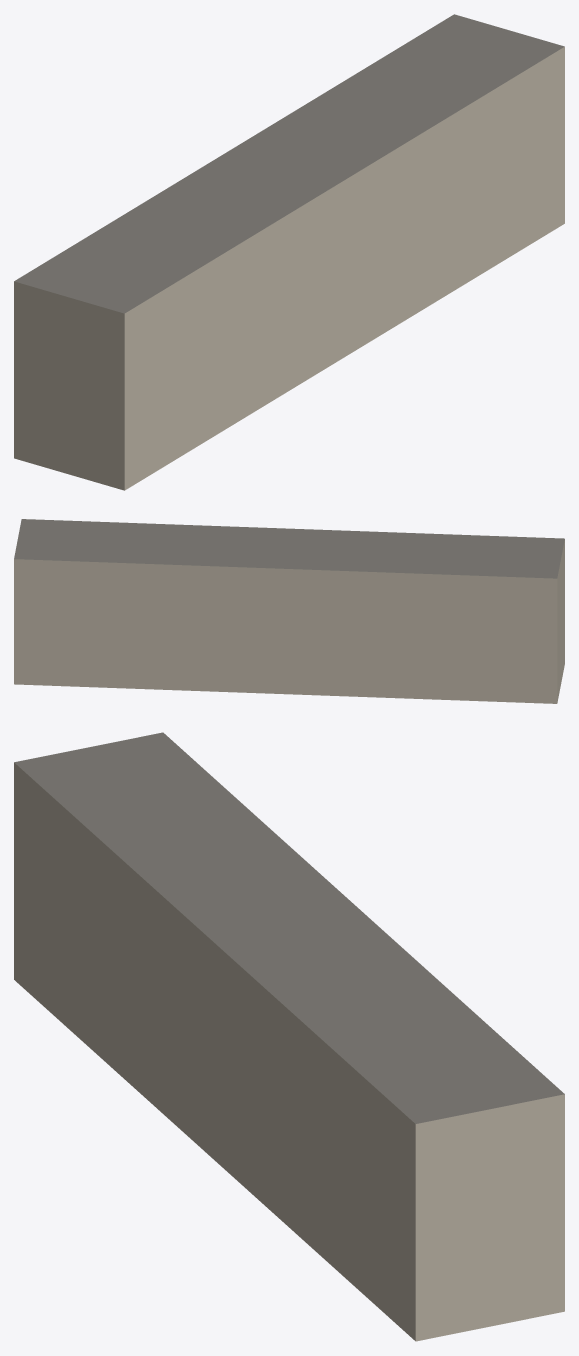
3 views of the same model, one above another, from view 1: azimuth 30°, elevation 25°; view 2: azimuth 150°, elevation 25°; view 3: azimuth 270°, elevation 25° (orthographic). The views are drawn at different scales.
Parts seen in each view (by area): view 1: HP-w475045202; view 2: HP-w475045202; view 3: HP-w475045202.
Part boxes in pixels (box(x1,y1,x2,y2)): HP-w475045202: box(14, 14, 564, 490); HP-w475045202: box(14, 519, 564, 703); HP-w475045202: box(14, 732, 564, 1341).
Bounding box in the file's own units: 69.56 × 18 × 41.34.
